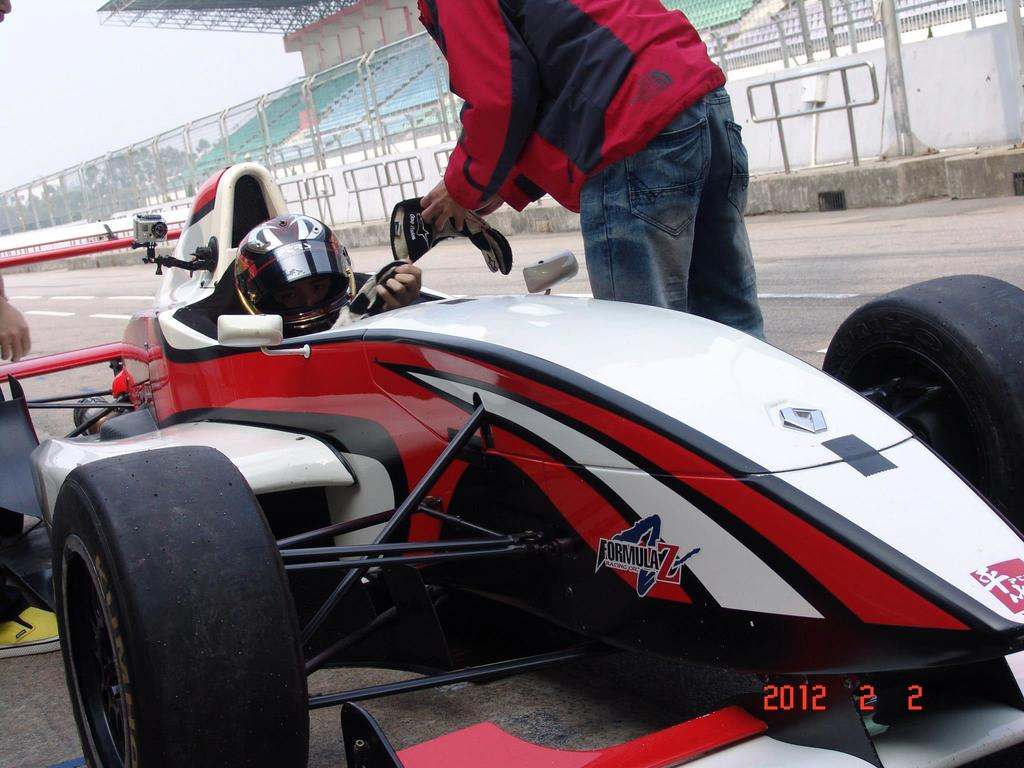Car: (0, 164, 1024, 739)
